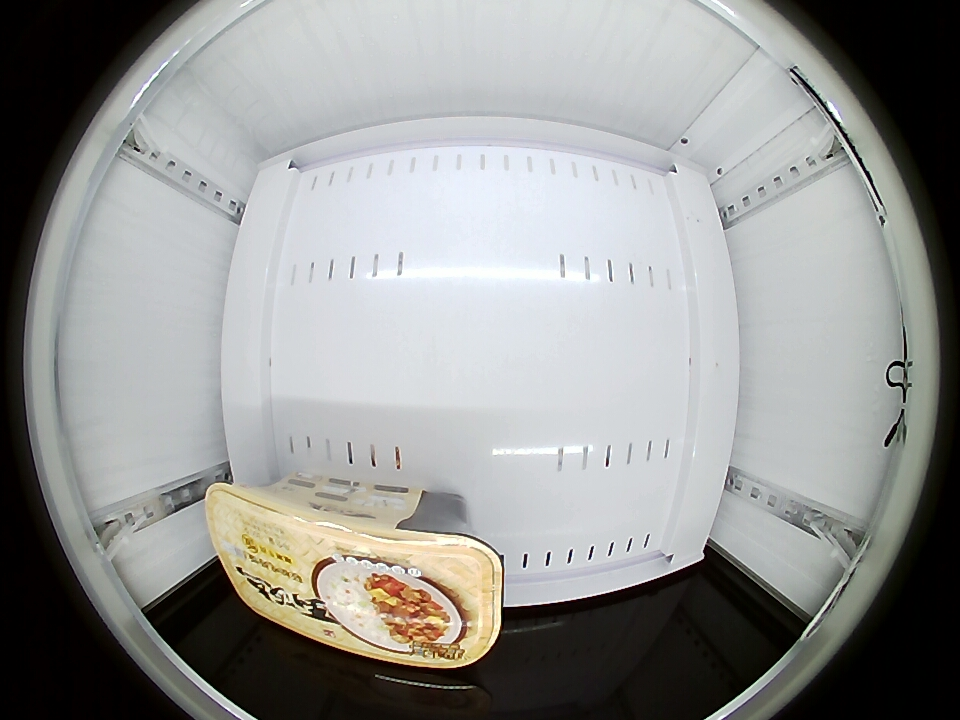daofandian2: (207, 477, 503, 669)
